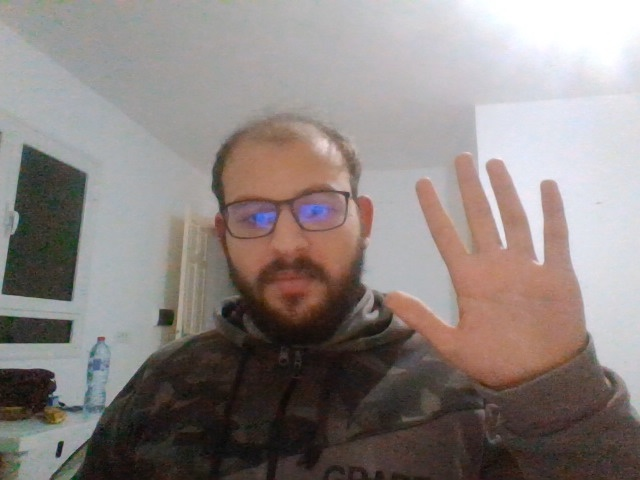Hello: (401, 156, 587, 378)
